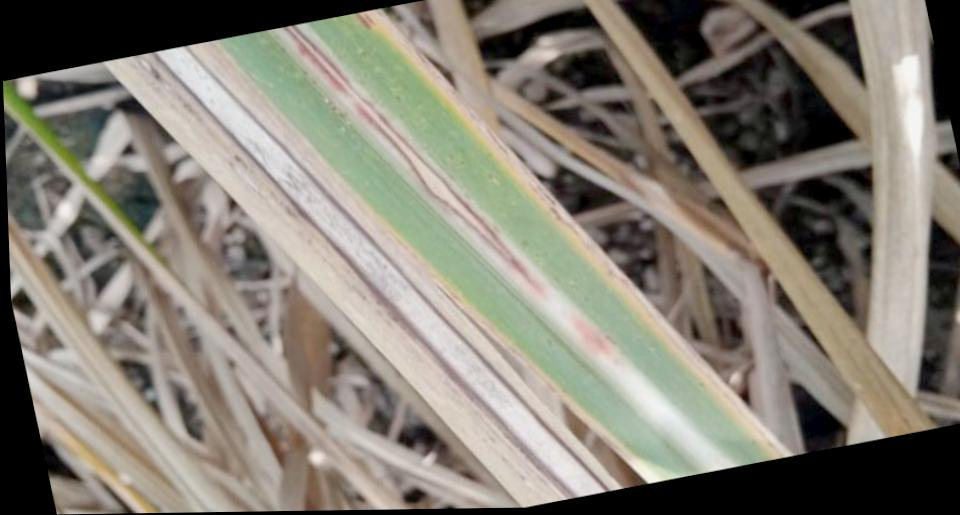RedRot: (283, 25, 550, 301), (566, 312, 626, 368)
